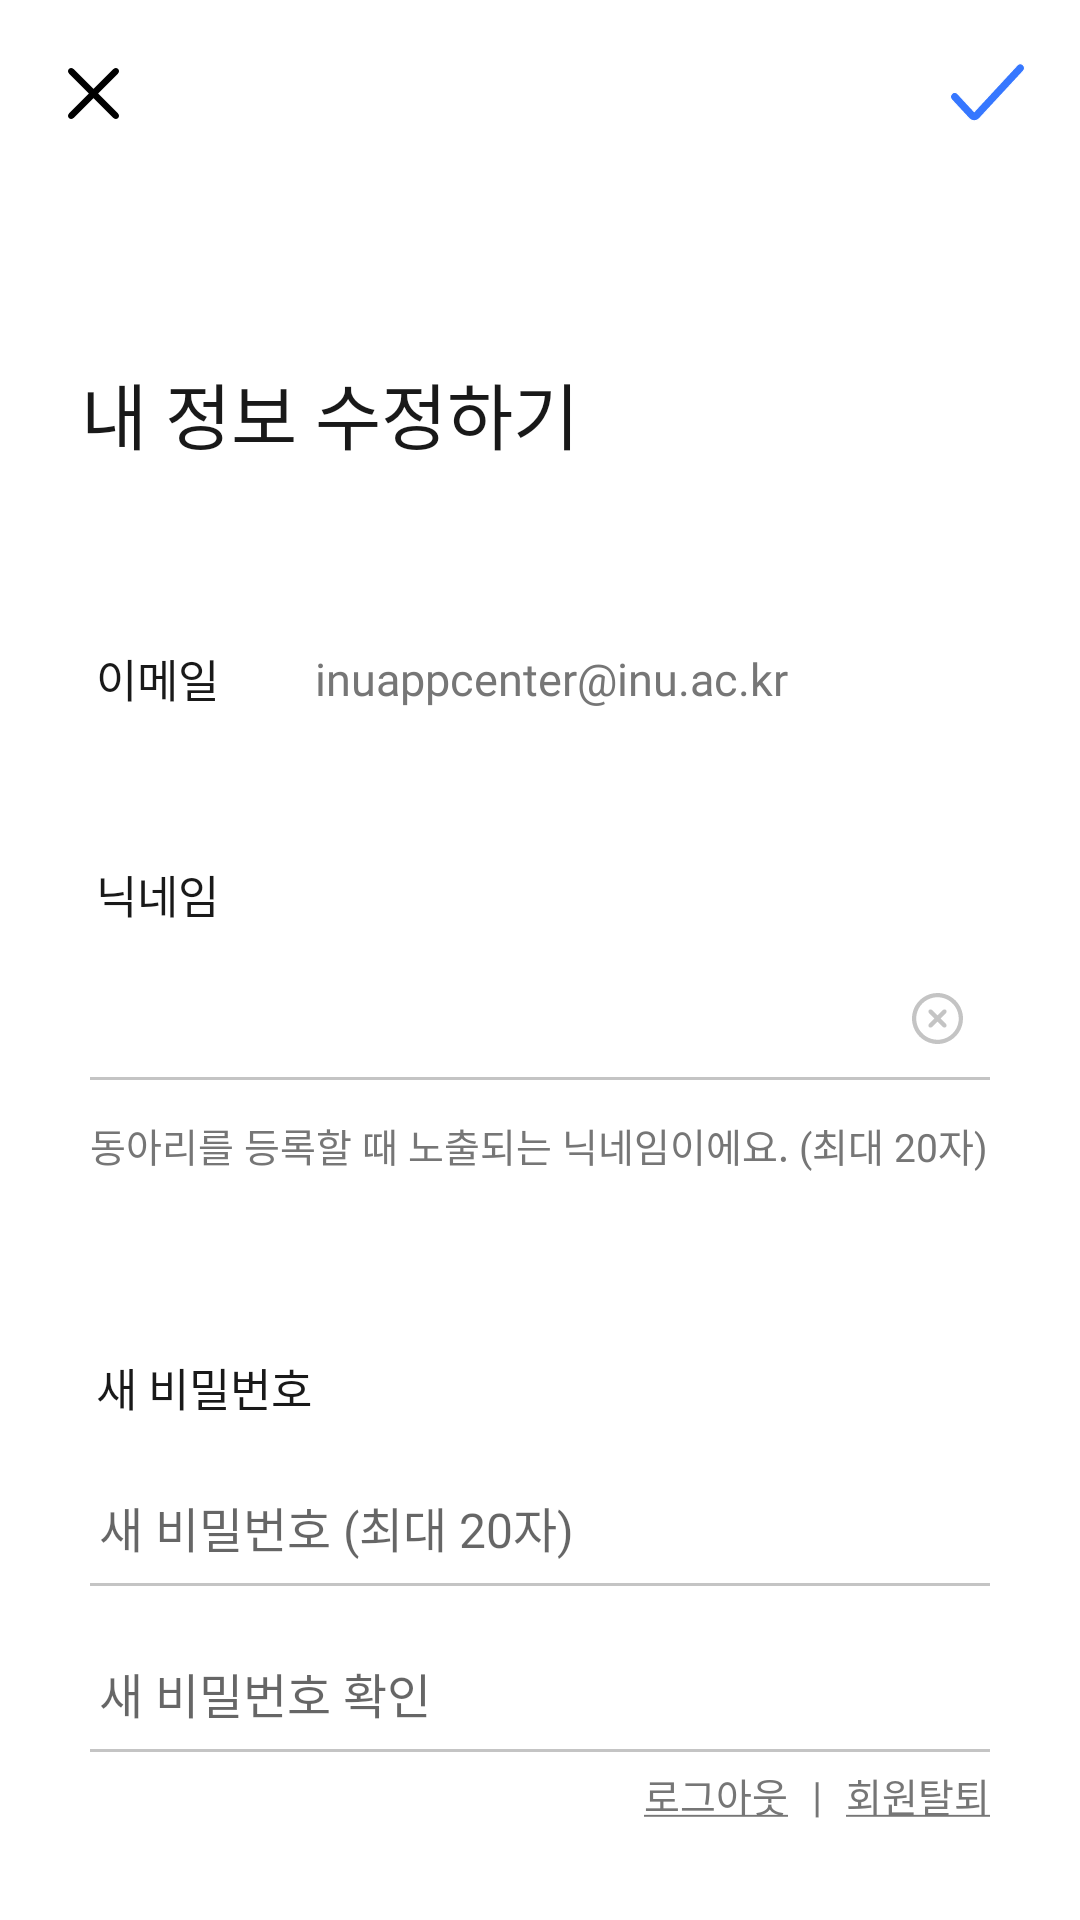

Where icons sit on this 1080 × 1920 app screen, as (x1, y1, x2, y2):
cancel: (68, 68, 119, 119)
check: (951, 64, 1024, 121)
delete edittext: (912, 993, 963, 1044)
